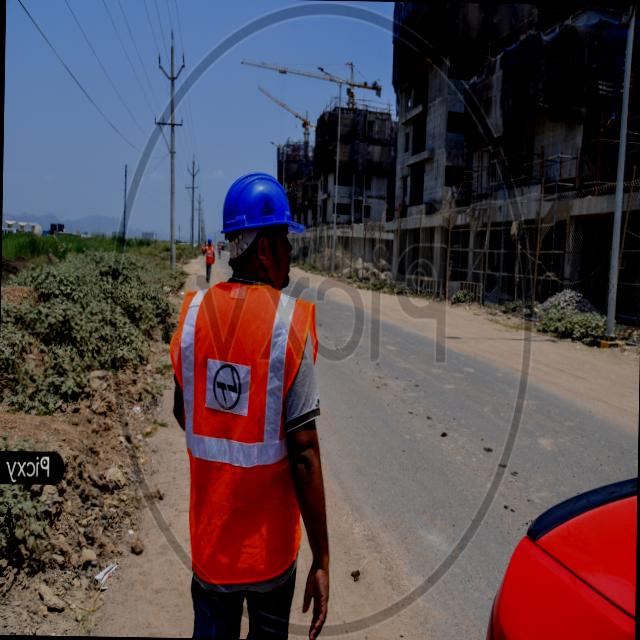helmet: (216, 143, 312, 242)
no-goggles: (263, 224, 294, 250)
vest: (172, 280, 314, 597)
